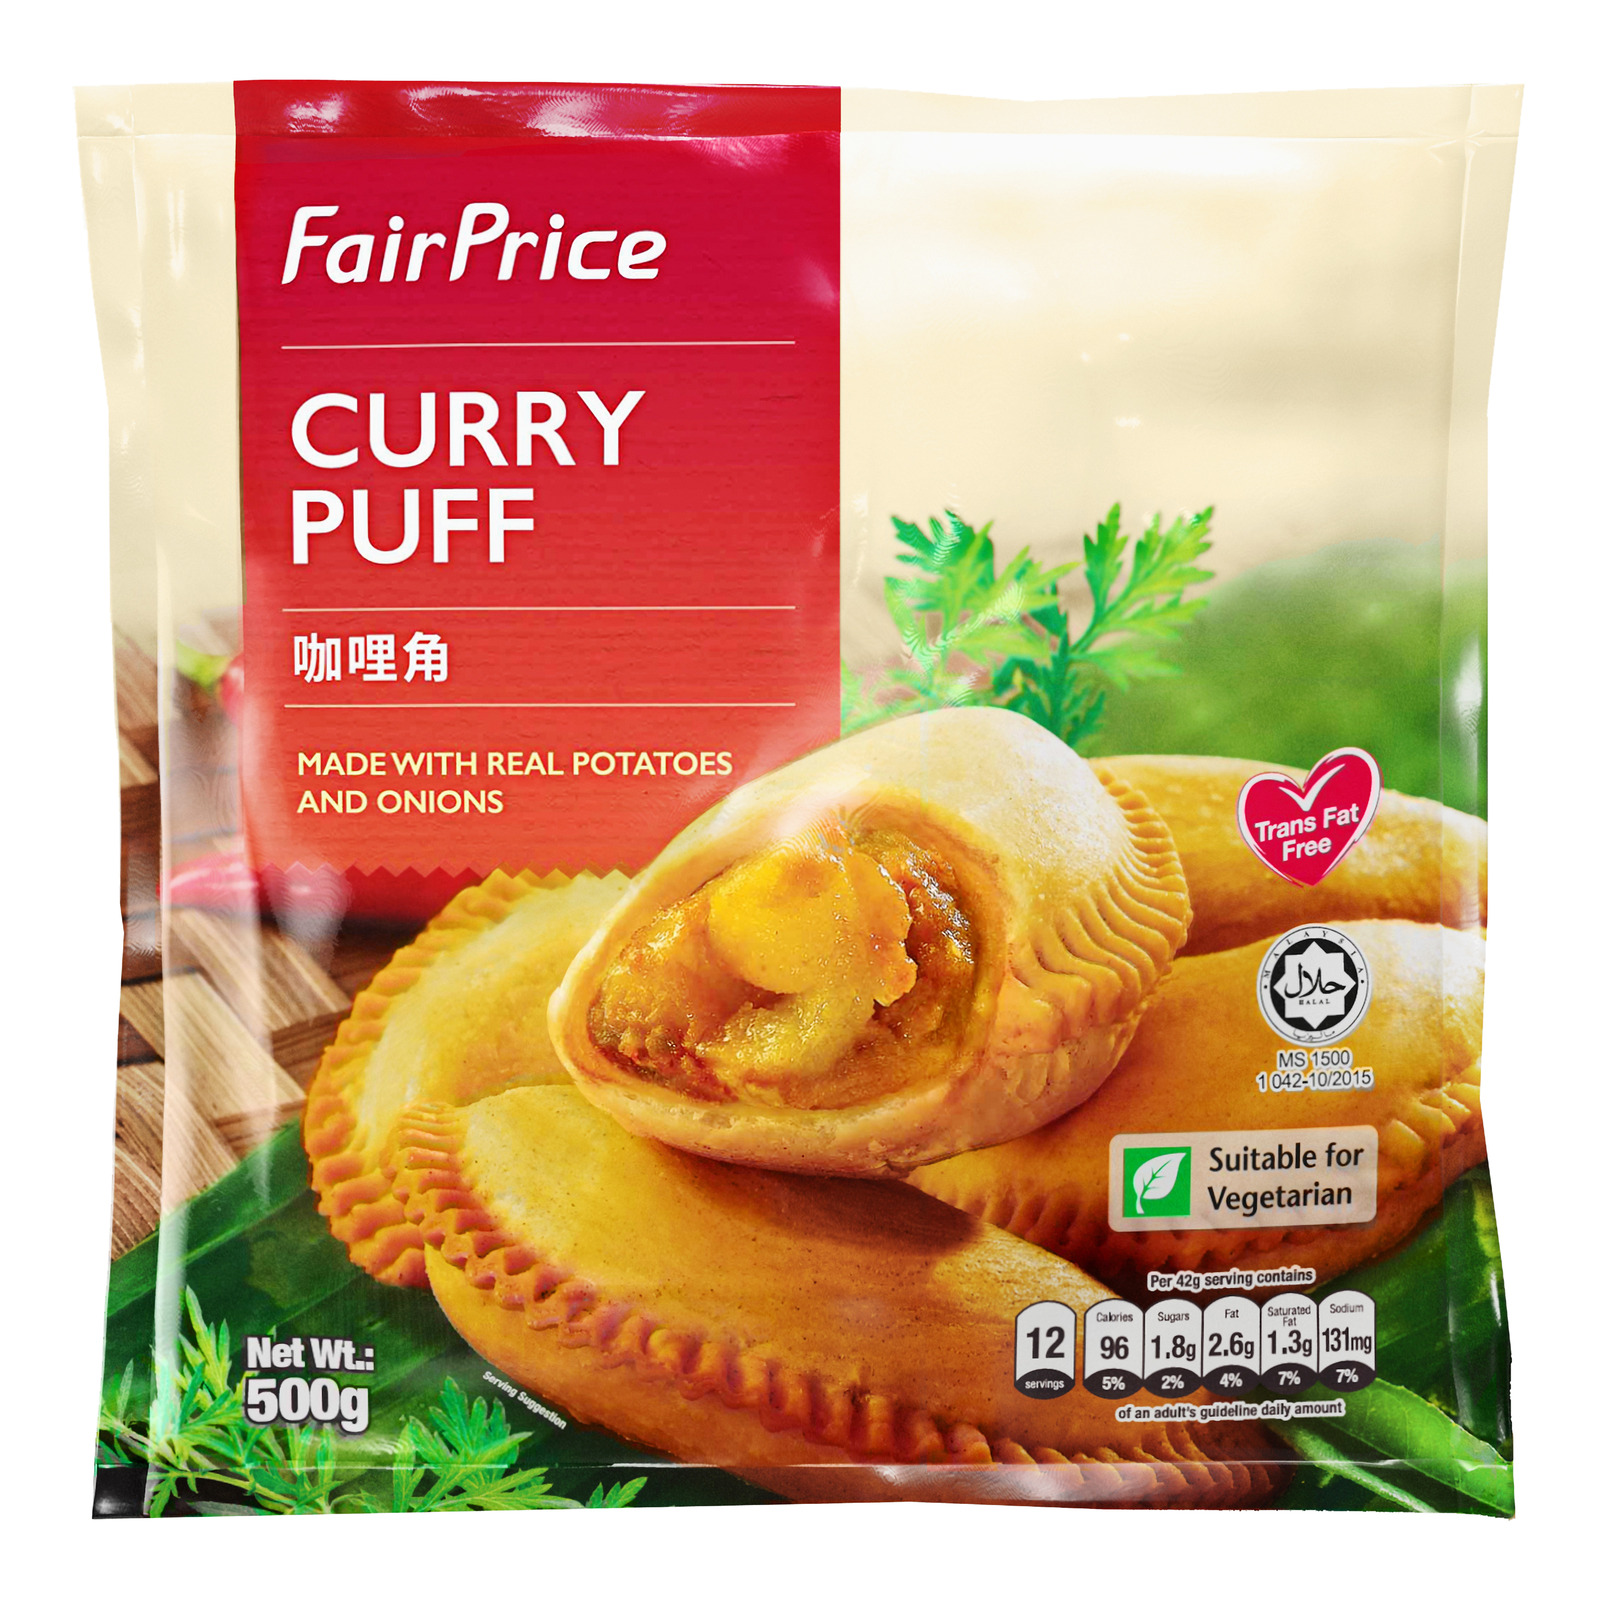Curry Puff: (334, 1046, 1289, 1478), (601, 692, 1216, 1158), (297, 856, 668, 1234)
